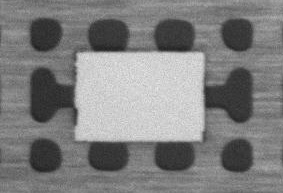DIE_BROKEN: (72, 107, 80, 126)
